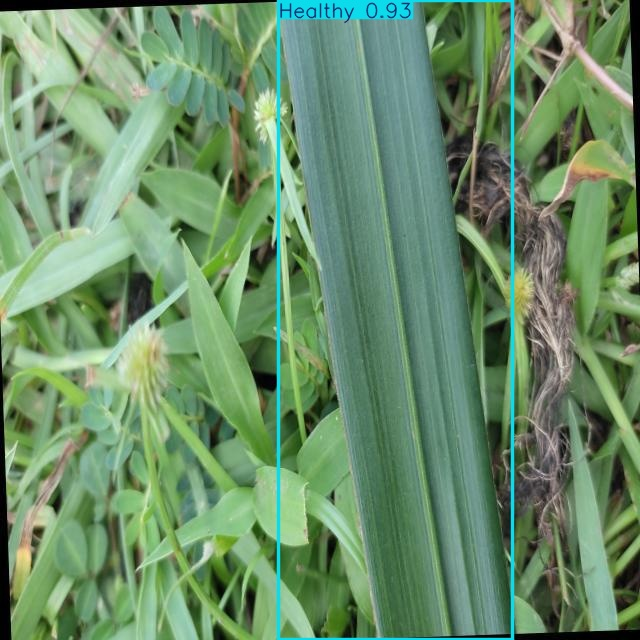Healthy: (279, 1, 513, 639)
